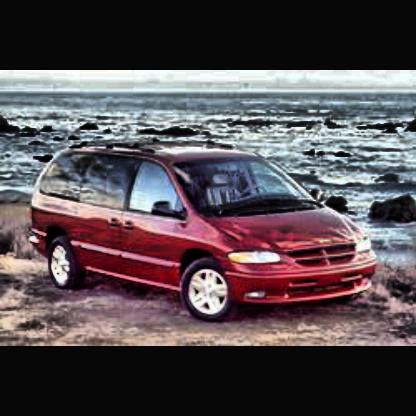Dodge Caravan Minivan 1997: (28, 138, 385, 326)
